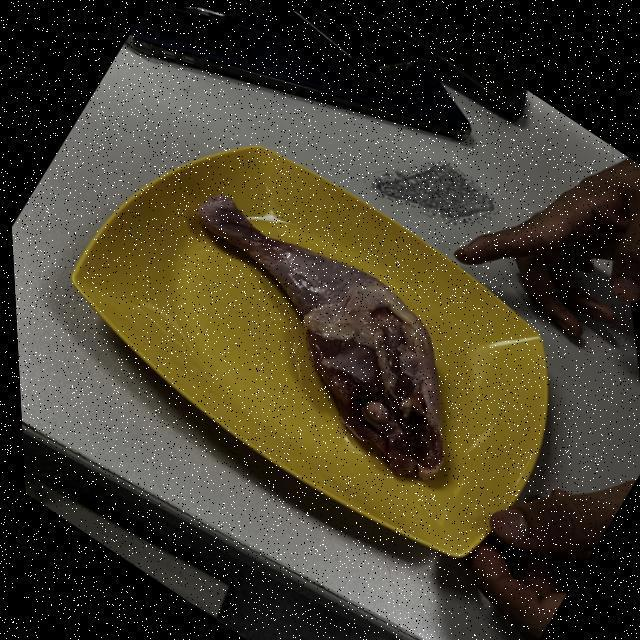quater: (193, 185, 458, 492)
